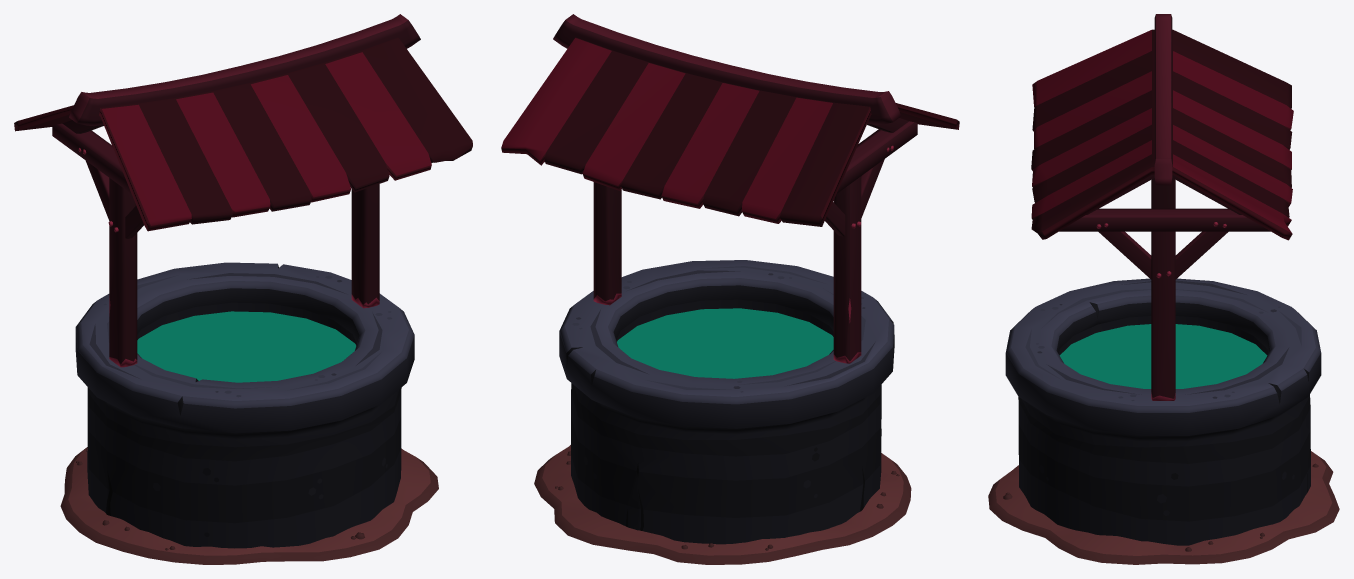
Rendered from Well.fbx.
The picture shows the model from 3 angles, left to right: view 1: azimuth 30°, elevation 25°; view 2: azimuth 150°, elevation 25°; view 3: azimuth 270°, elevation 25°; orthographic projection. The views are drawn at different scales.
Parts seen in each view (by area): view 1: Well; view 2: Well; view 3: Well.
Boxes of the visible parts, <box> form: Well: <box>14,14,472,564</box>; Well: <box>501,14,959,564</box>; Well: <box>988,14,1339,564</box>.
Size of the model in its own units: 200 by 242 by 190.
